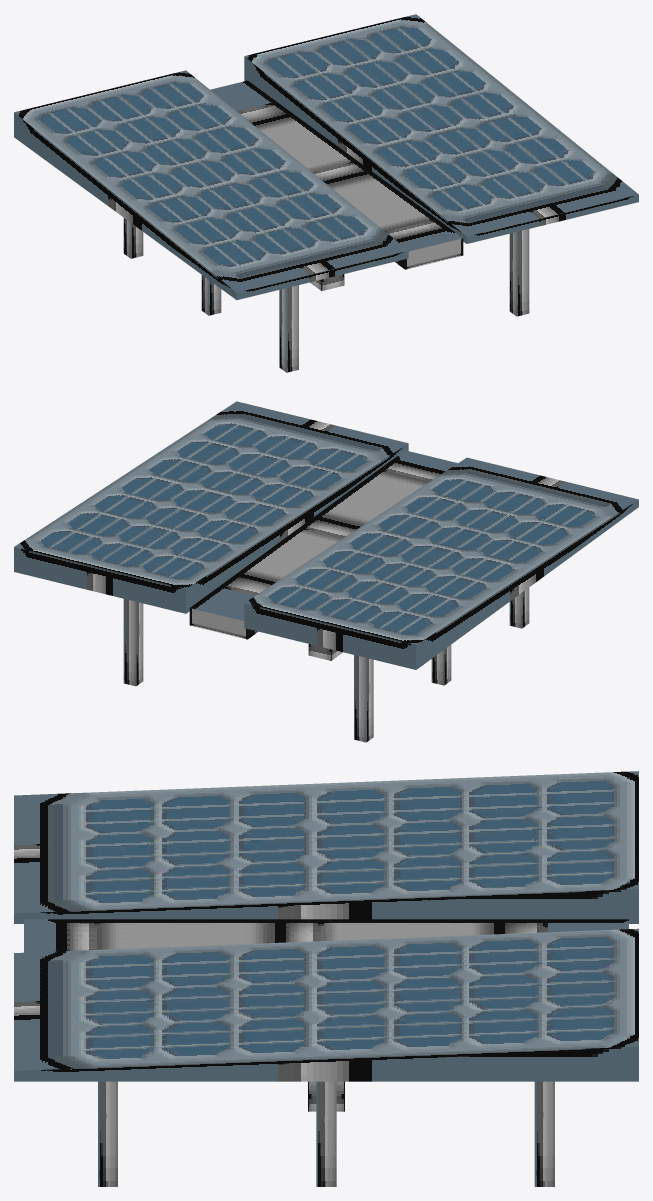
Rendered from Building_SolarGenerator.glb.
3 views of the same model, one above another, from view 1: azimuth 30°, elevation 25°; view 2: azimuth 150°, elevation 25°; view 3: azimuth 270°, elevation 25° (orthographic). The views are drawn at different scales.
Visible parts, largest first — view 1: SolarGenerator; view 2: SolarGenerator; view 3: SolarGenerator.
Boxes of the visible parts, bbox=[...] form: SolarGenerator: bbox=[14, 14, 638, 372]; SolarGenerator: bbox=[14, 401, 638, 742]; SolarGenerator: bbox=[14, 771, 638, 1186].
Bounding box in the file's own units: 3.88 × 1.28 × 3.72.
Materials: 1 (1 with a texture image).
